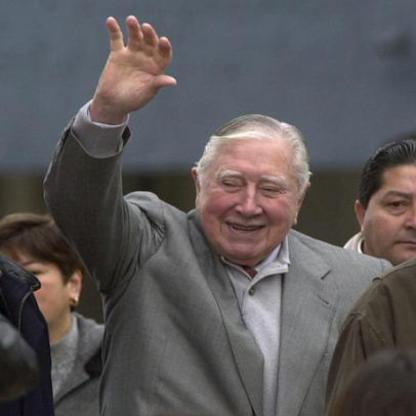face: (200, 123, 304, 259), (1, 219, 71, 334)
